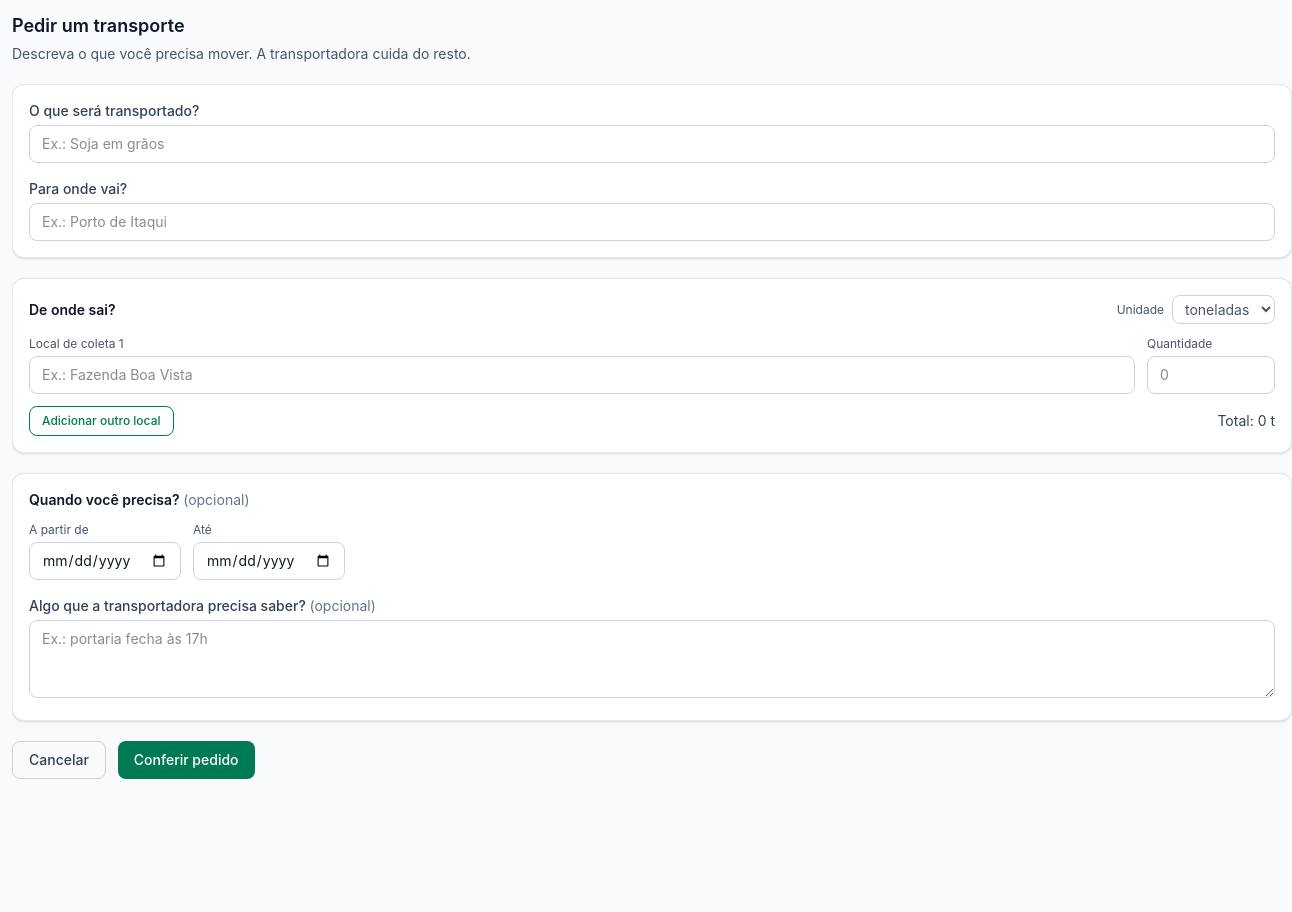
Novo pedido › multi-origem soma o total sozinho — o usuário nunca redigita
The image size is (1292, 912).
In the field labelled "Local de coleta 1": (582, 375) [29, 356, 1135, 394], type "Fazenda A"
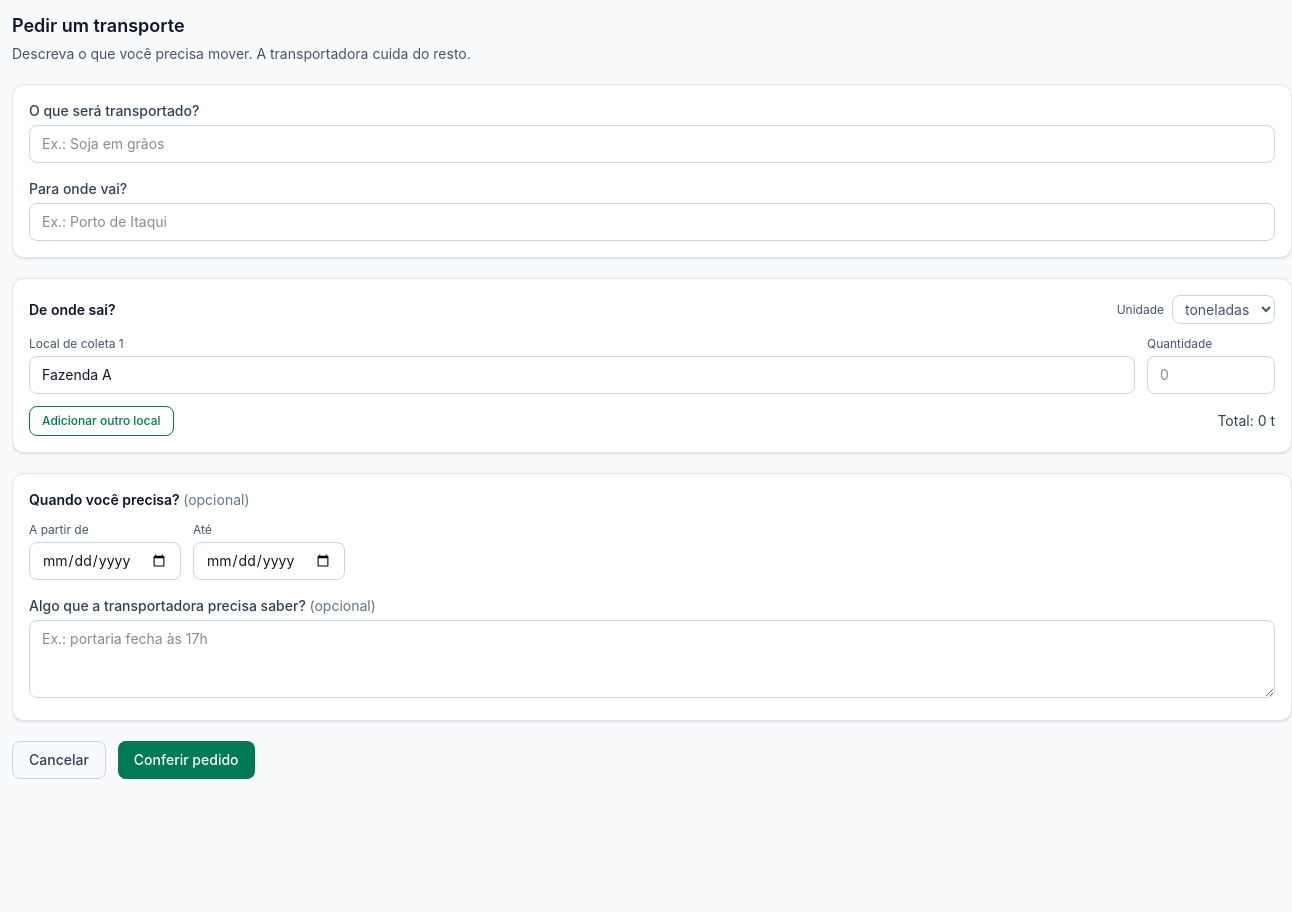
In the field labelled "Quantidade": (1211, 375) [1147, 356, 1275, 394], type "70"
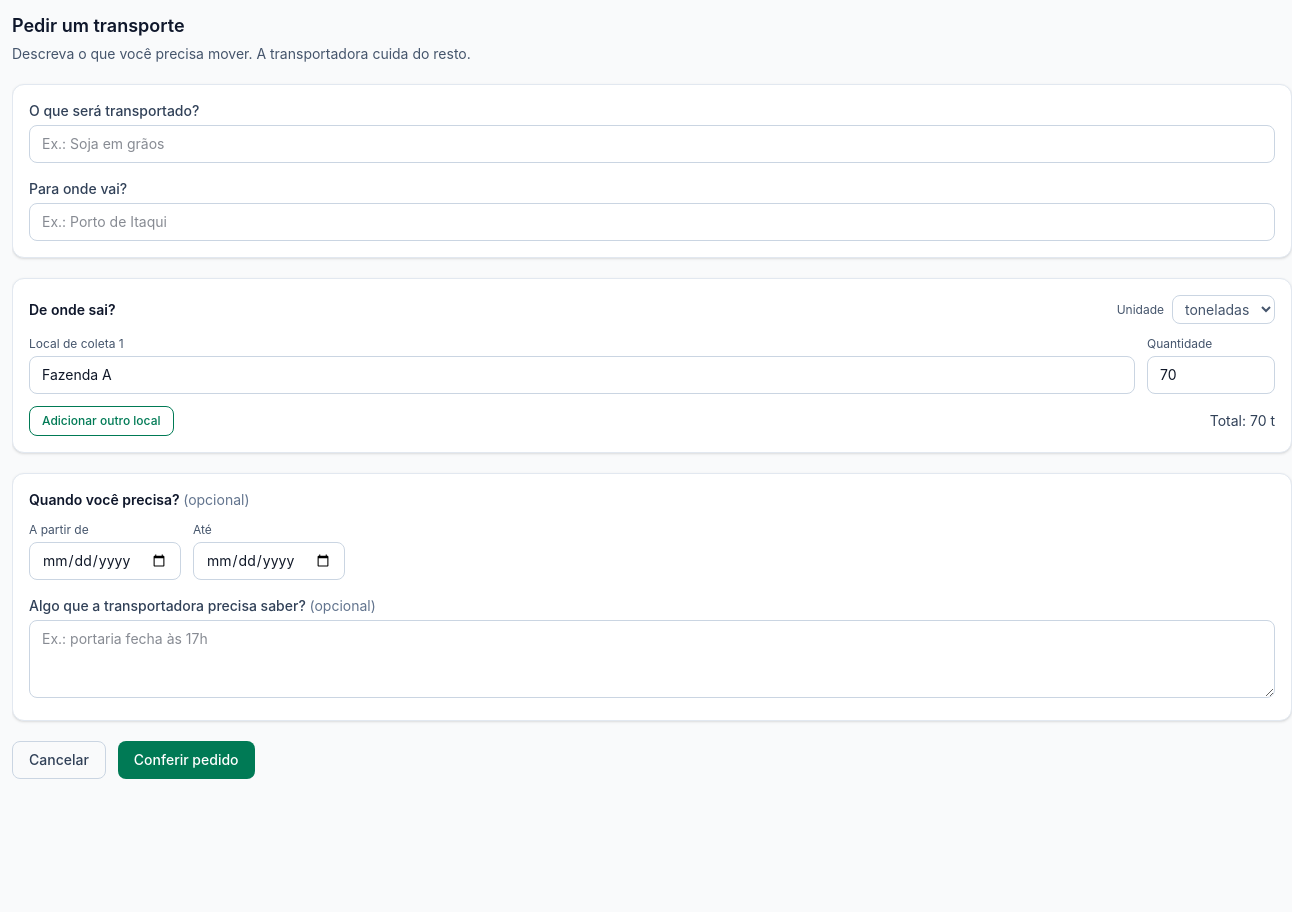
Click the button "Adicionar outro local": (101, 421) [29, 406, 174, 436]
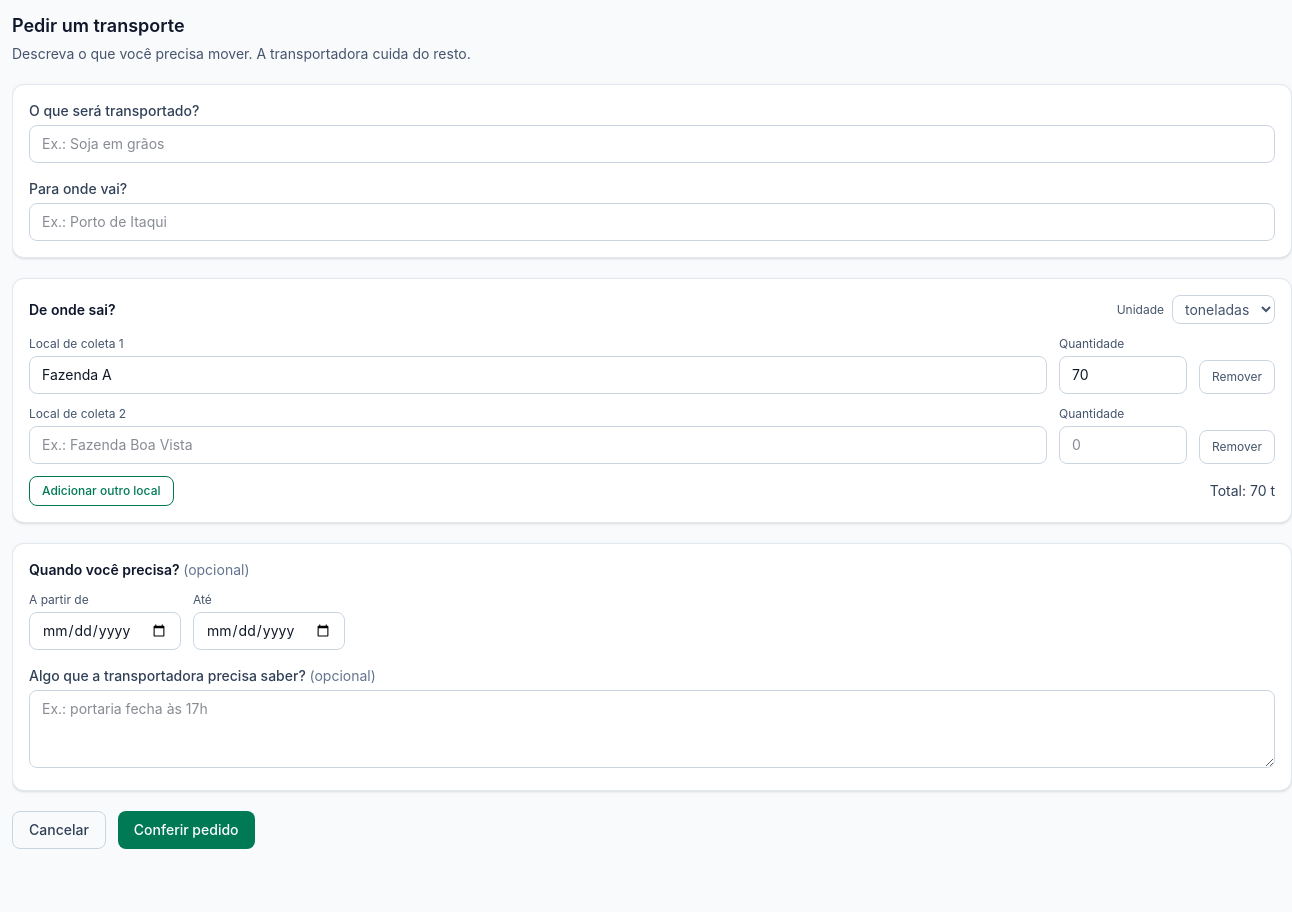
In the field labelled "Local de coleta 2": (538, 445) [29, 426, 1047, 464], type "Fazenda B"
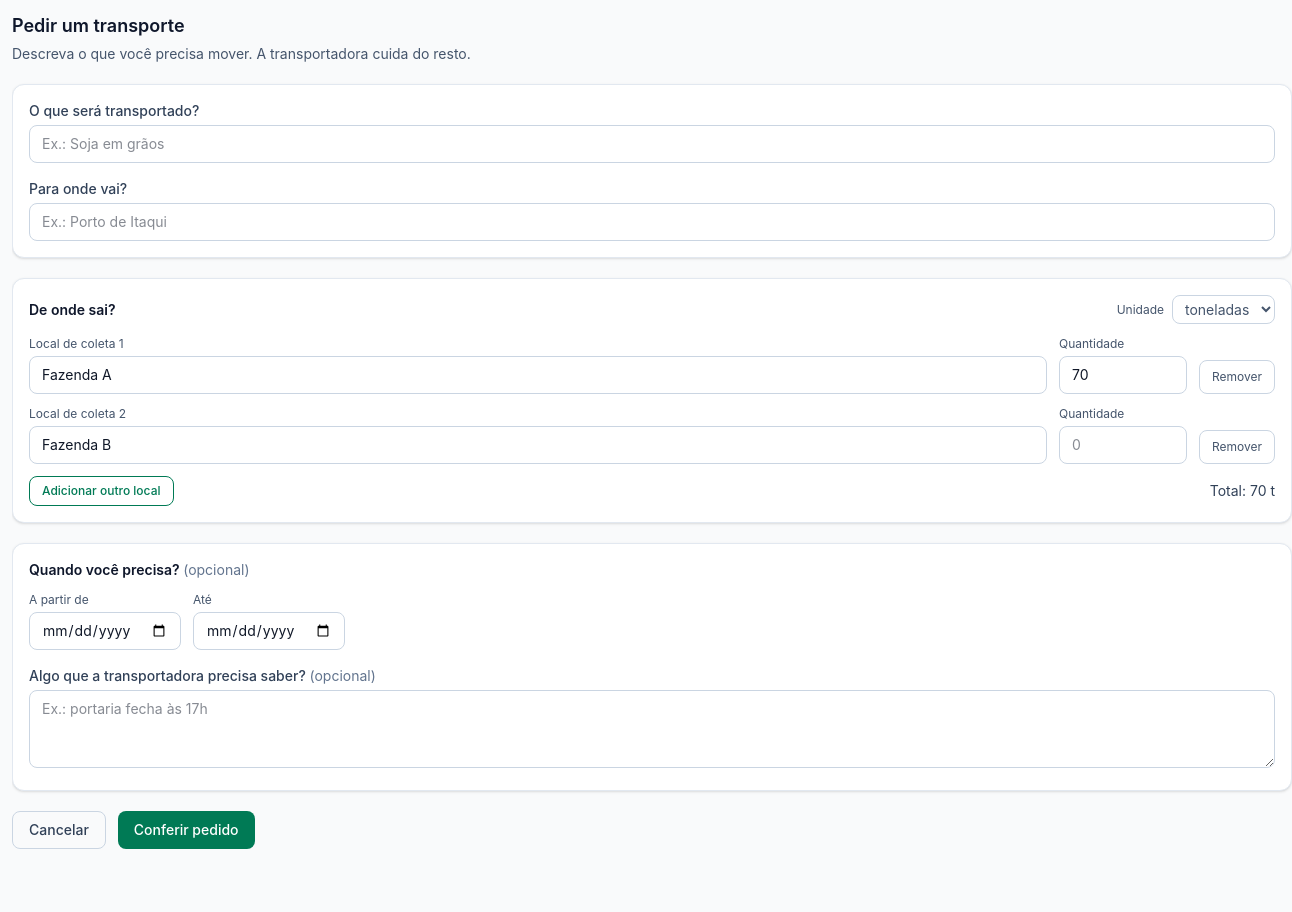
In the 2nd field labelled "Quantidade": (1123, 445) [1059, 426, 1187, 464], type "50"
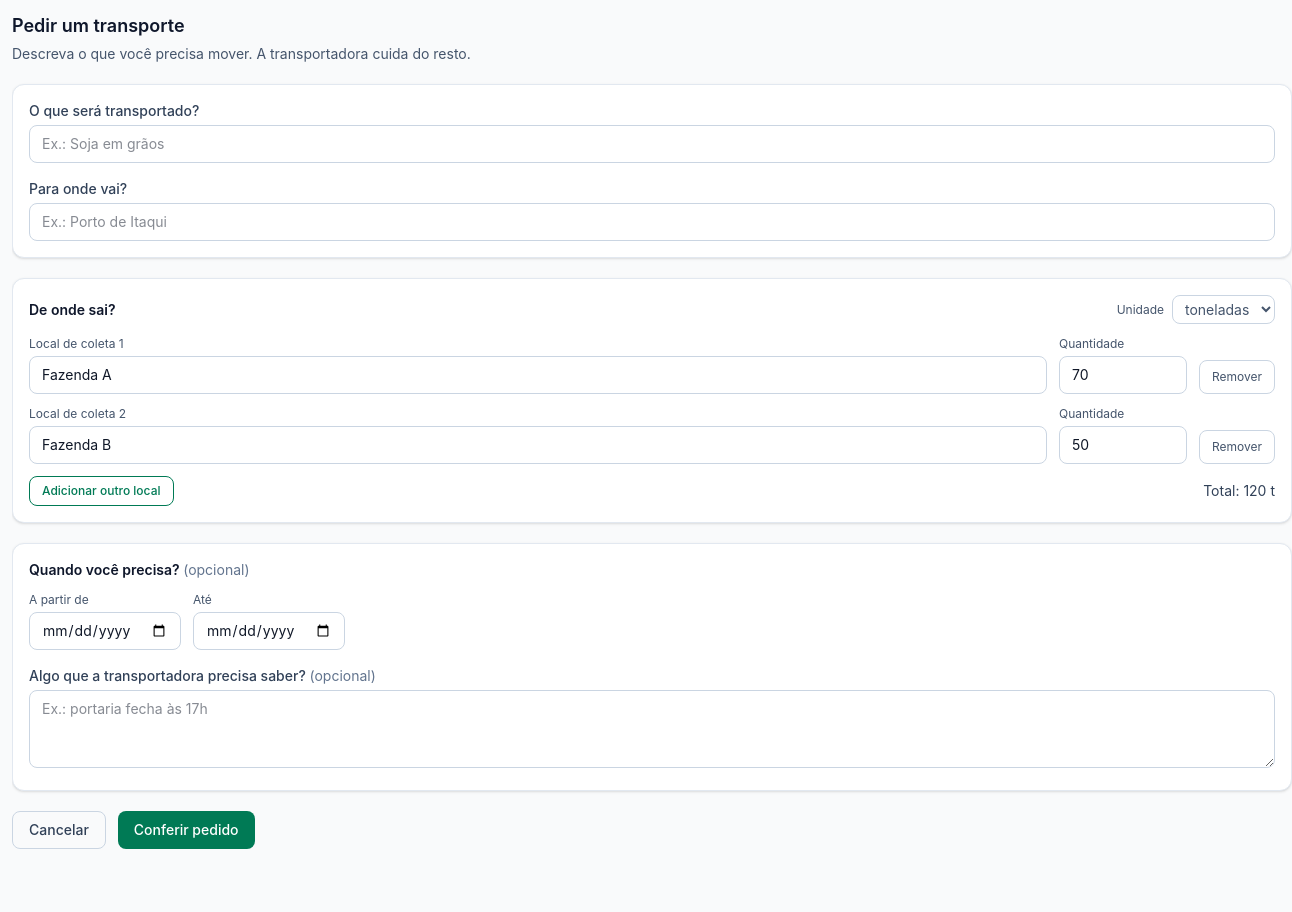
Result: the text "Total: 120 t" is shown at [1203, 481, 1275, 501]
